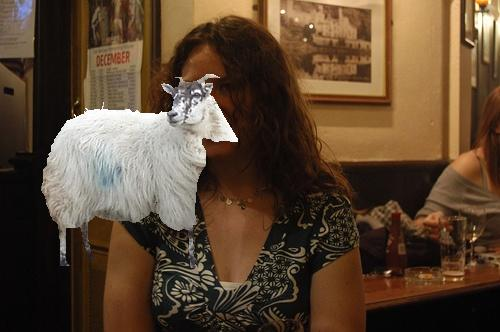tampered: (42, 75, 238, 268)
